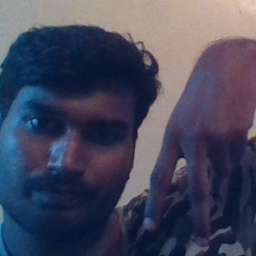Y: (140, 94, 245, 252)
